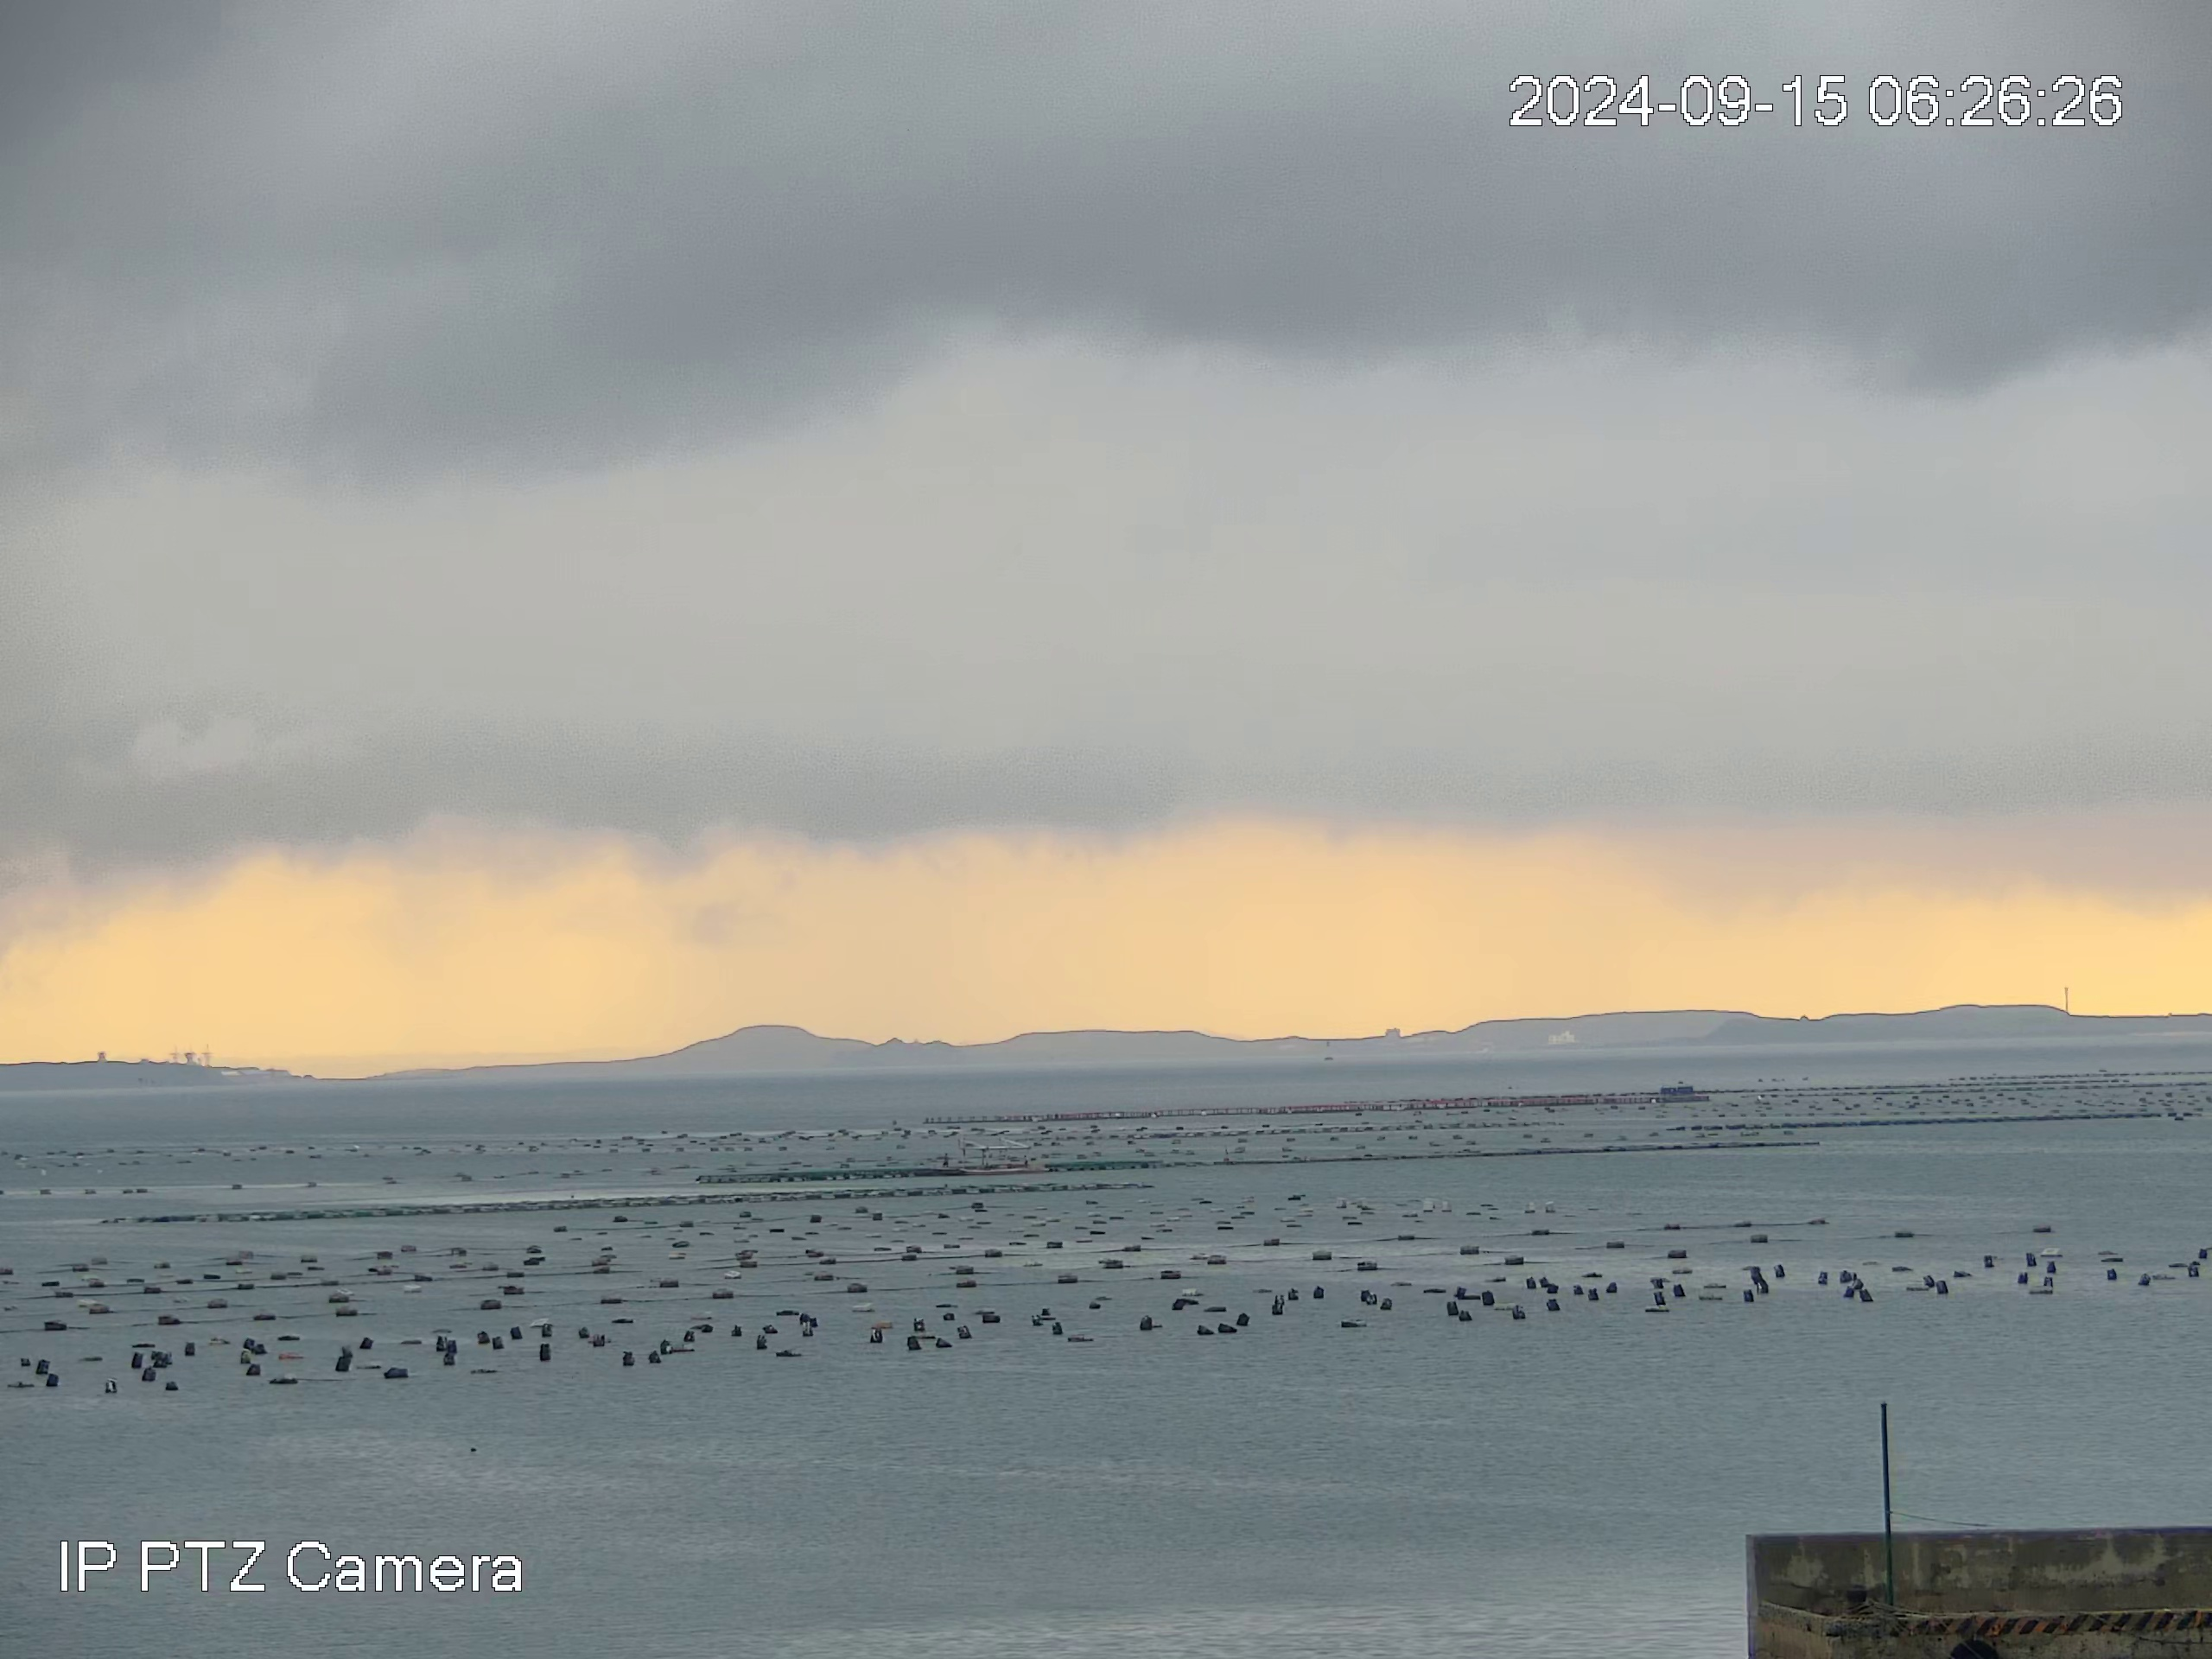boat: (956, 1133, 1047, 1176)
